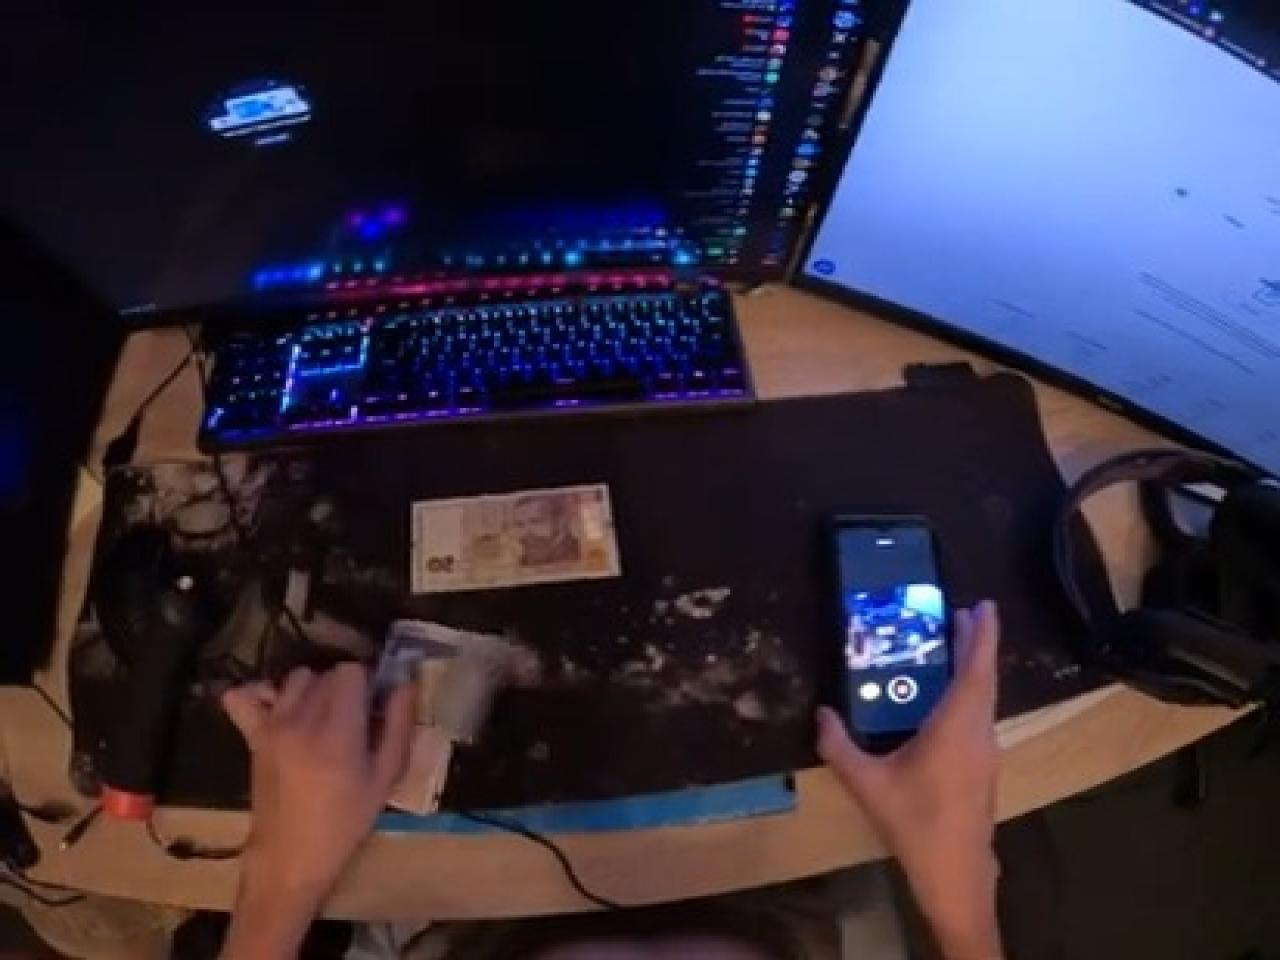50leva: (410, 485, 622, 600)
